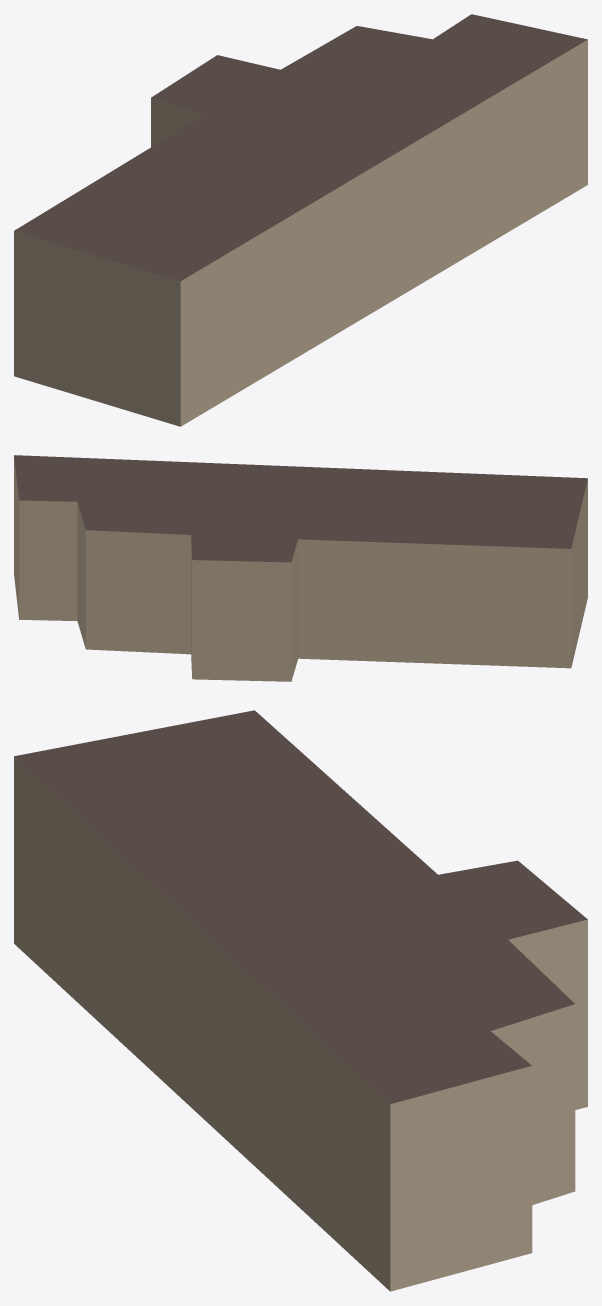
The picture shows the model from 3 angles, top to bottom: view 1: azimuth 30°, elevation 25°; view 2: azimuth 150°, elevation 25°; view 3: azimuth 270°, elevation 25°; orthographic projection. The views are drawn at different scales.
Parts seen in each view (by area): view 1: HP-w1515071089; view 2: HP-w1515071089; view 3: HP-w1515071089.
Part boxes in pixels (x1=…): HP-w1515071089: x1=14, y1=14, x2=587, y2=426; HP-w1515071089: x1=14, y1=455, x2=587, y2=681; HP-w1515071089: x1=14, y1=710, x2=587, y2=1291.
Bounding box in the file's own units: 40.57 × 9 × 24.98.
